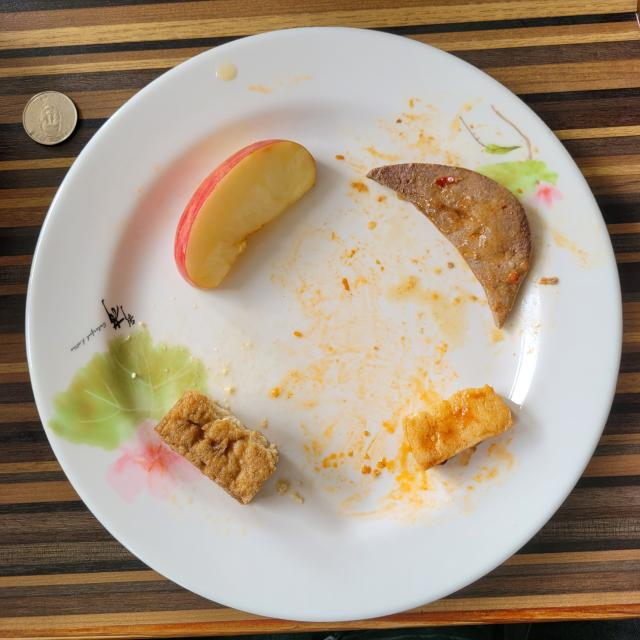apple -sliced-: (174, 140, 316, 289)
coin: (22, 91, 78, 145)
creamy tofu: (402, 385, 512, 471)
egg tofu: (155, 390, 279, 504)
pig liver: (368, 164, 531, 328)
